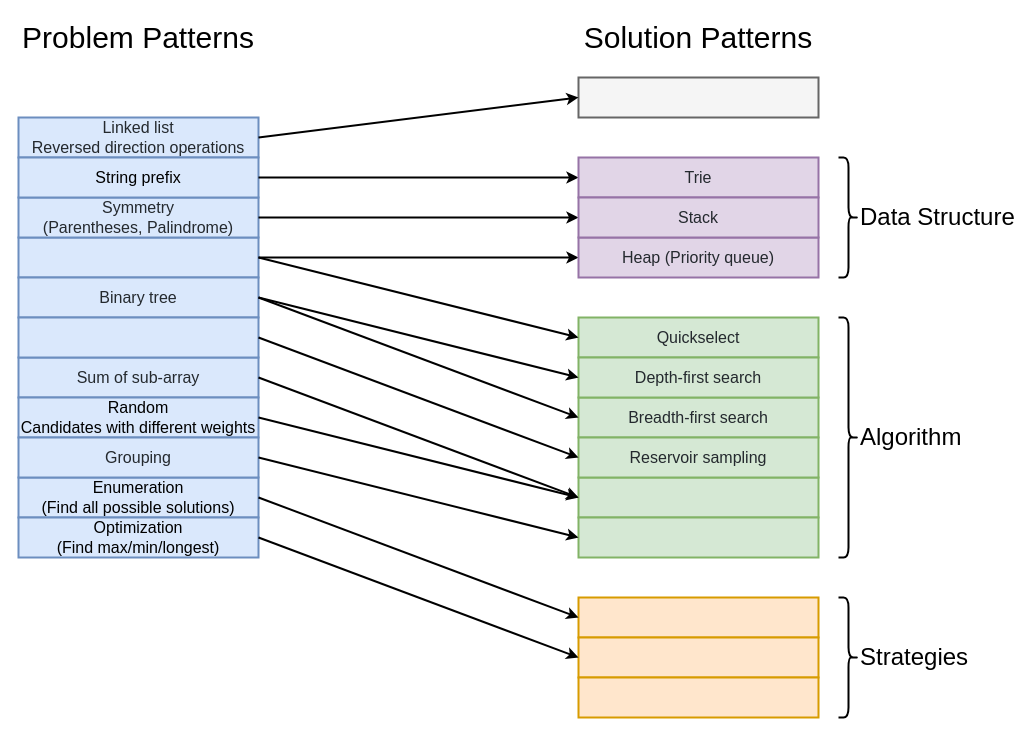
Some shapes in this 1035 by 735 pixel diagram are drawn without their labels. Here are the shapes that lost their labels. From the top down, the box of each, then its label:
(577, 76, 819, 118): Recursion
(17, 236, 259, 278): Top K and Kth
(17, 316, 259, 358): Random Candidates with same weight
(577, 476, 819, 518): Prefix sum array
(577, 516, 819, 558): Union Find
(577, 596, 819, 638): Backtracking
(577, 636, 819, 678): Greedy
(577, 676, 819, 718): Divide and Conquer
